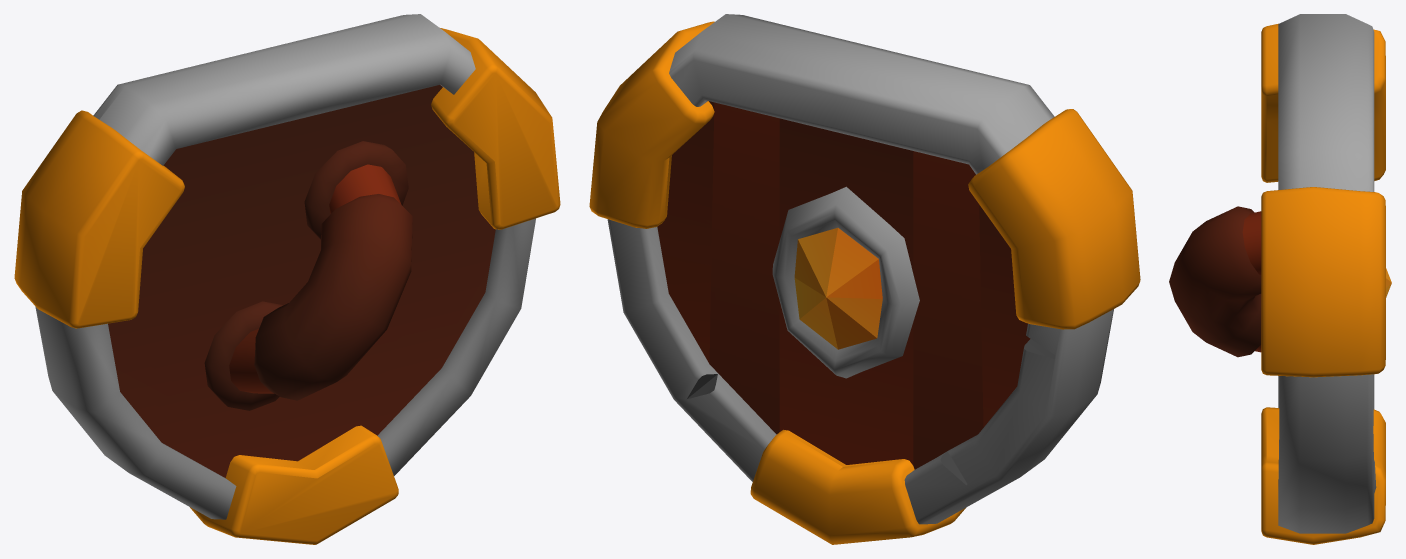
The model's file is Shield_V1_0.fbx.
3 renders of one model, left to right at view 1: azimuth 30°, elevation 25°; view 2: azimuth 150°, elevation 25°; view 3: azimuth 270°, elevation 25°, orthographic. The views are drawn at different scales.
Parts seen in each view (by area): view 1: Shield_V1_0; view 2: Shield_V1_0; view 3: Shield_V1_0.
Boxes of the visible parts, x1,y1,x2,y2 form: Shield_V1_0: (14, 14, 560, 544); Shield_V1_0: (589, 14, 1140, 544); Shield_V1_0: (1169, 14, 1391, 544).
Bounding box in the file's own units: 0.4913 × 0.4364 × 0.1956.
